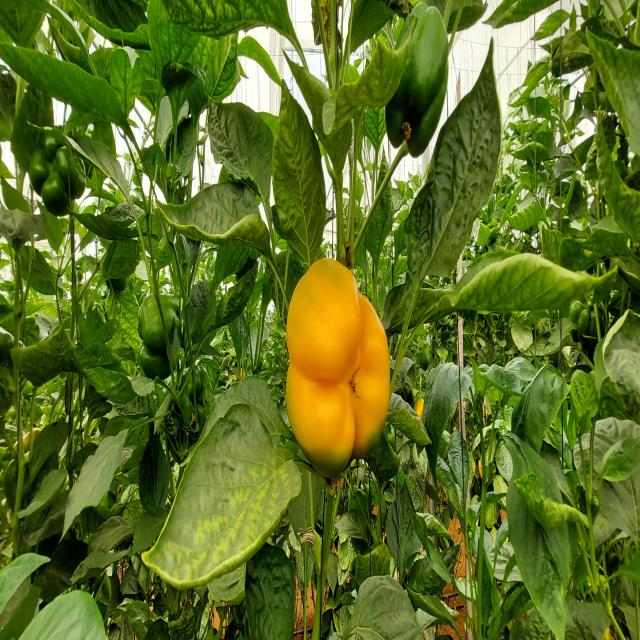Yellow-Ready-to-Harvest: (282, 240, 392, 476)
